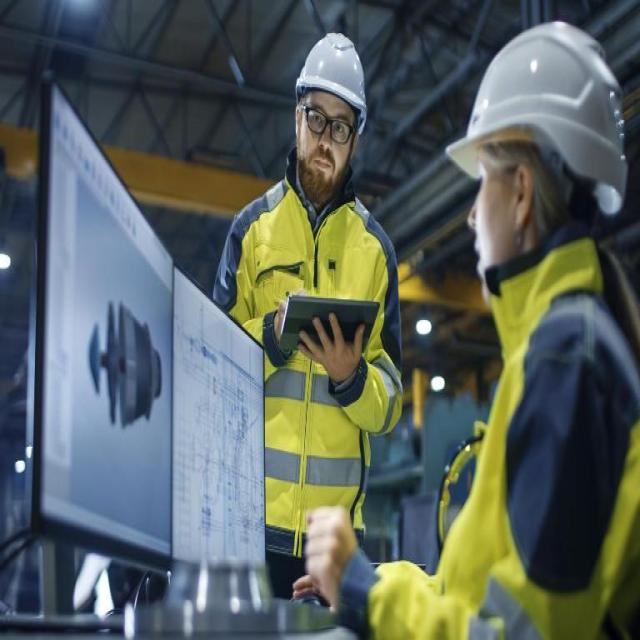goggles: (292, 93, 368, 149)
helmet: (443, 13, 627, 218), (291, 25, 370, 141)
no-goggles: (458, 156, 539, 210)
vest: (440, 245, 640, 640), (210, 169, 402, 563)
